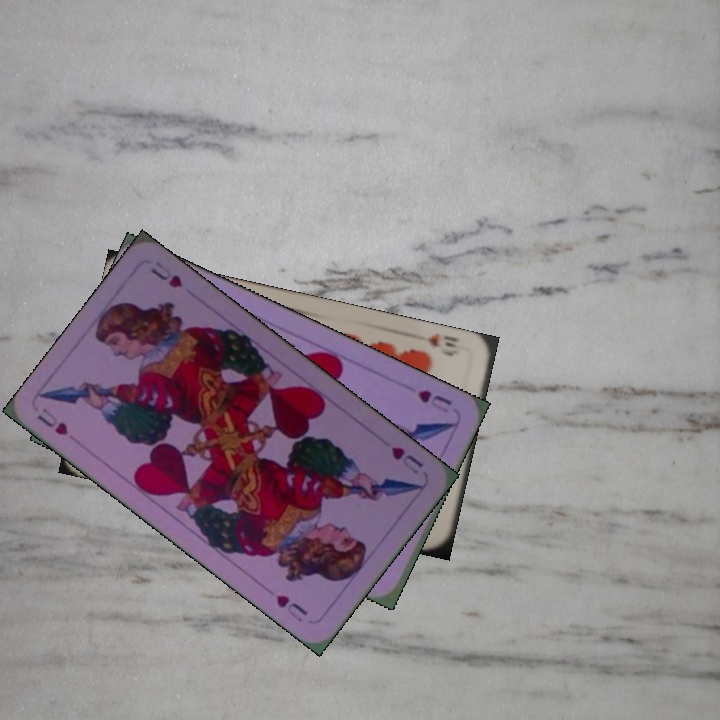H10: (411, 330, 462, 359)
HU: (386, 442, 426, 477), (33, 404, 72, 438), (413, 385, 455, 416)
